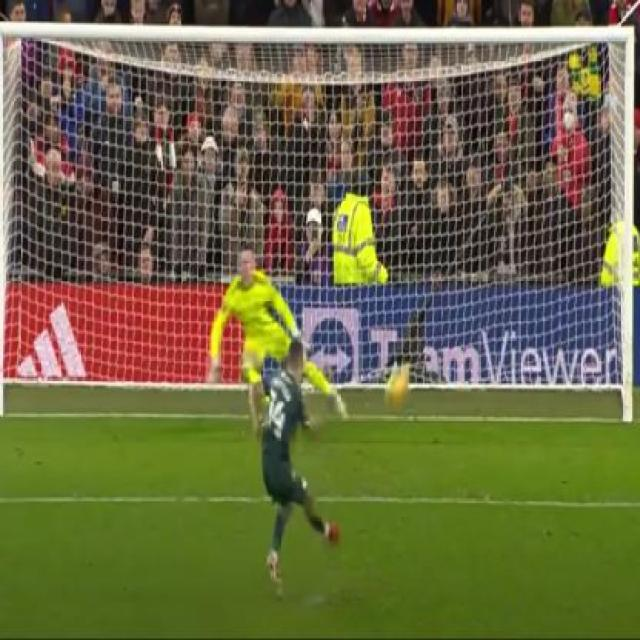ball: (370, 356, 418, 410)
cage: (0, 11, 638, 420)
gardien: (208, 236, 349, 417)
joueur: (252, 346, 341, 589)
